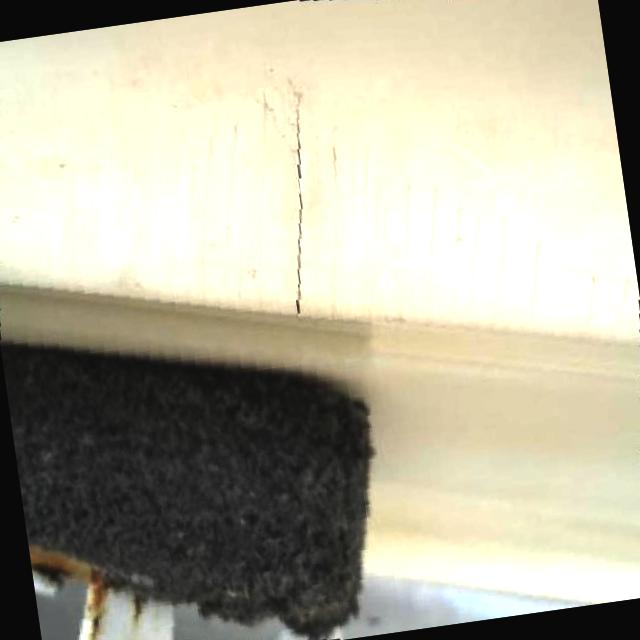crack: (266, 94, 330, 313)
